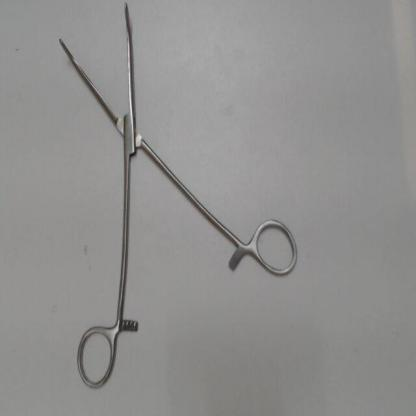Lahey Forceps: (49, 3, 307, 398)
